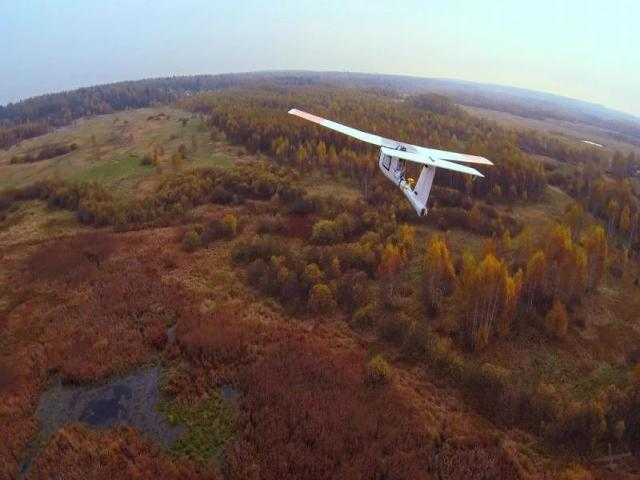hedef: (288, 102, 487, 214)
